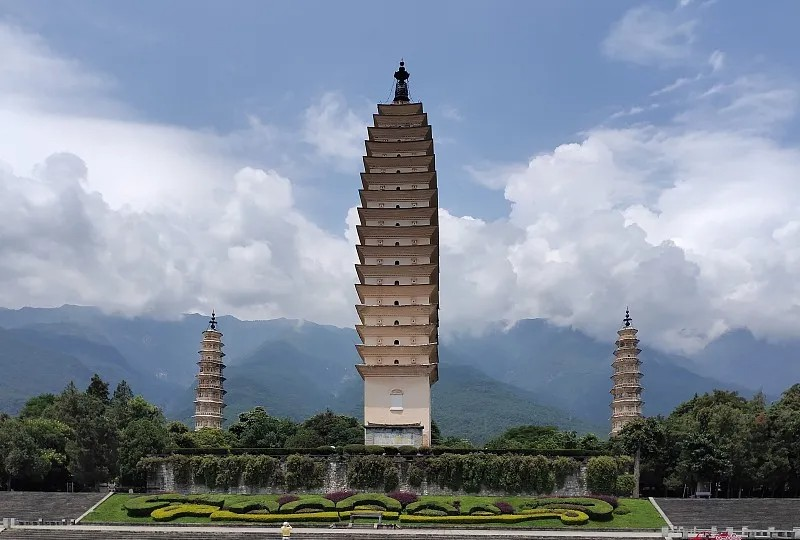ThreePagoda: (356, 58, 439, 446)
